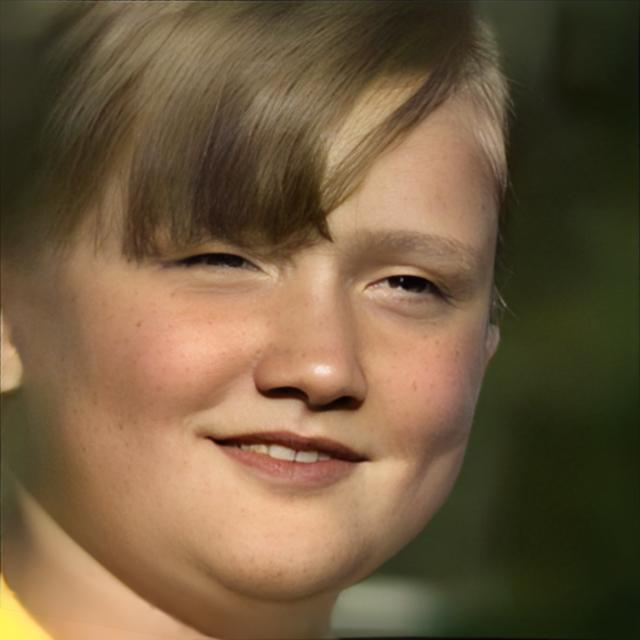content: (21, 63, 500, 606)
